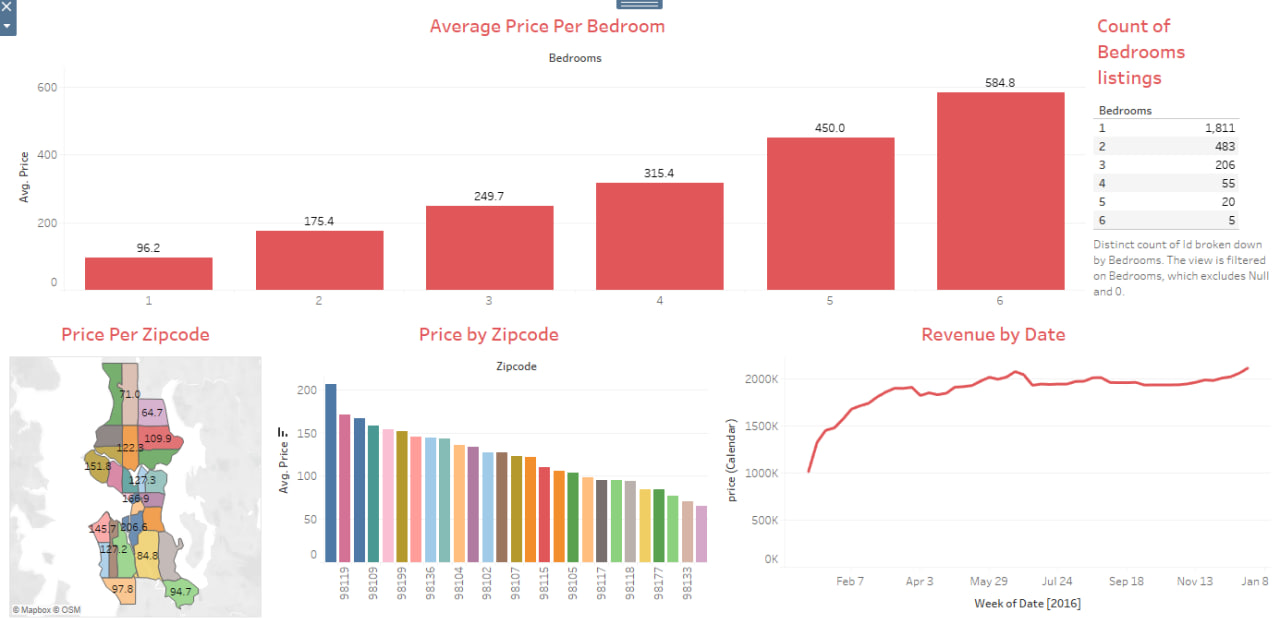

Layout of this report page (visuals, bound fields, positions):
{"tool":"tableau","page":{"name":"Dashboard 1","canvas":[1000,1000],"units":"permille","ordinal":0},"visuals":[{"type":"worksheet","title":"Sheet 4","mark":"Automatic","rows":["price"],"cols":["bedrooms"],"box":[5.8,11.7,844.5,488.3]},{"type":"worksheet","title":"Sheet 5","mark":"Automatic","rows":["bedrooms"],"box":[850.2,11.7,144,488.3]},{"type":"worksheet","title":"Sheet 2","mark":"Multipolygon","box":[5.8,500,202.3,488.3]},{"type":"worksheet","title":"Sheet 1","mark":"Automatic","rows":["price"],"cols":["zipcode"],"box":[208.1,500,348.5,488.3]},{"type":"worksheet","title":"Sheet 3","mark":"Automatic","rows":["price (Calendar)"],"cols":["date"],"box":[556.5,500,437.7,488.3]}]}

Visuals, with their boxes on the dashboard's canvas, which has no fixed pixel size, in thousandths of its width and height (x1, y1, x2, y2). These are canvas units, not pixel positions in the 1280x624 screenshot, which may show the page scaled, cropped or inside an application window:
"Sheet 4" worksheet: 6,12,850,500
"Sheet 5" worksheet: 850,12,994,500
"Sheet 2" worksheet (Multipolygon marks): 6,500,208,988
"Sheet 1" worksheet: 208,500,557,988
"Sheet 3" worksheet: 556,500,994,988
